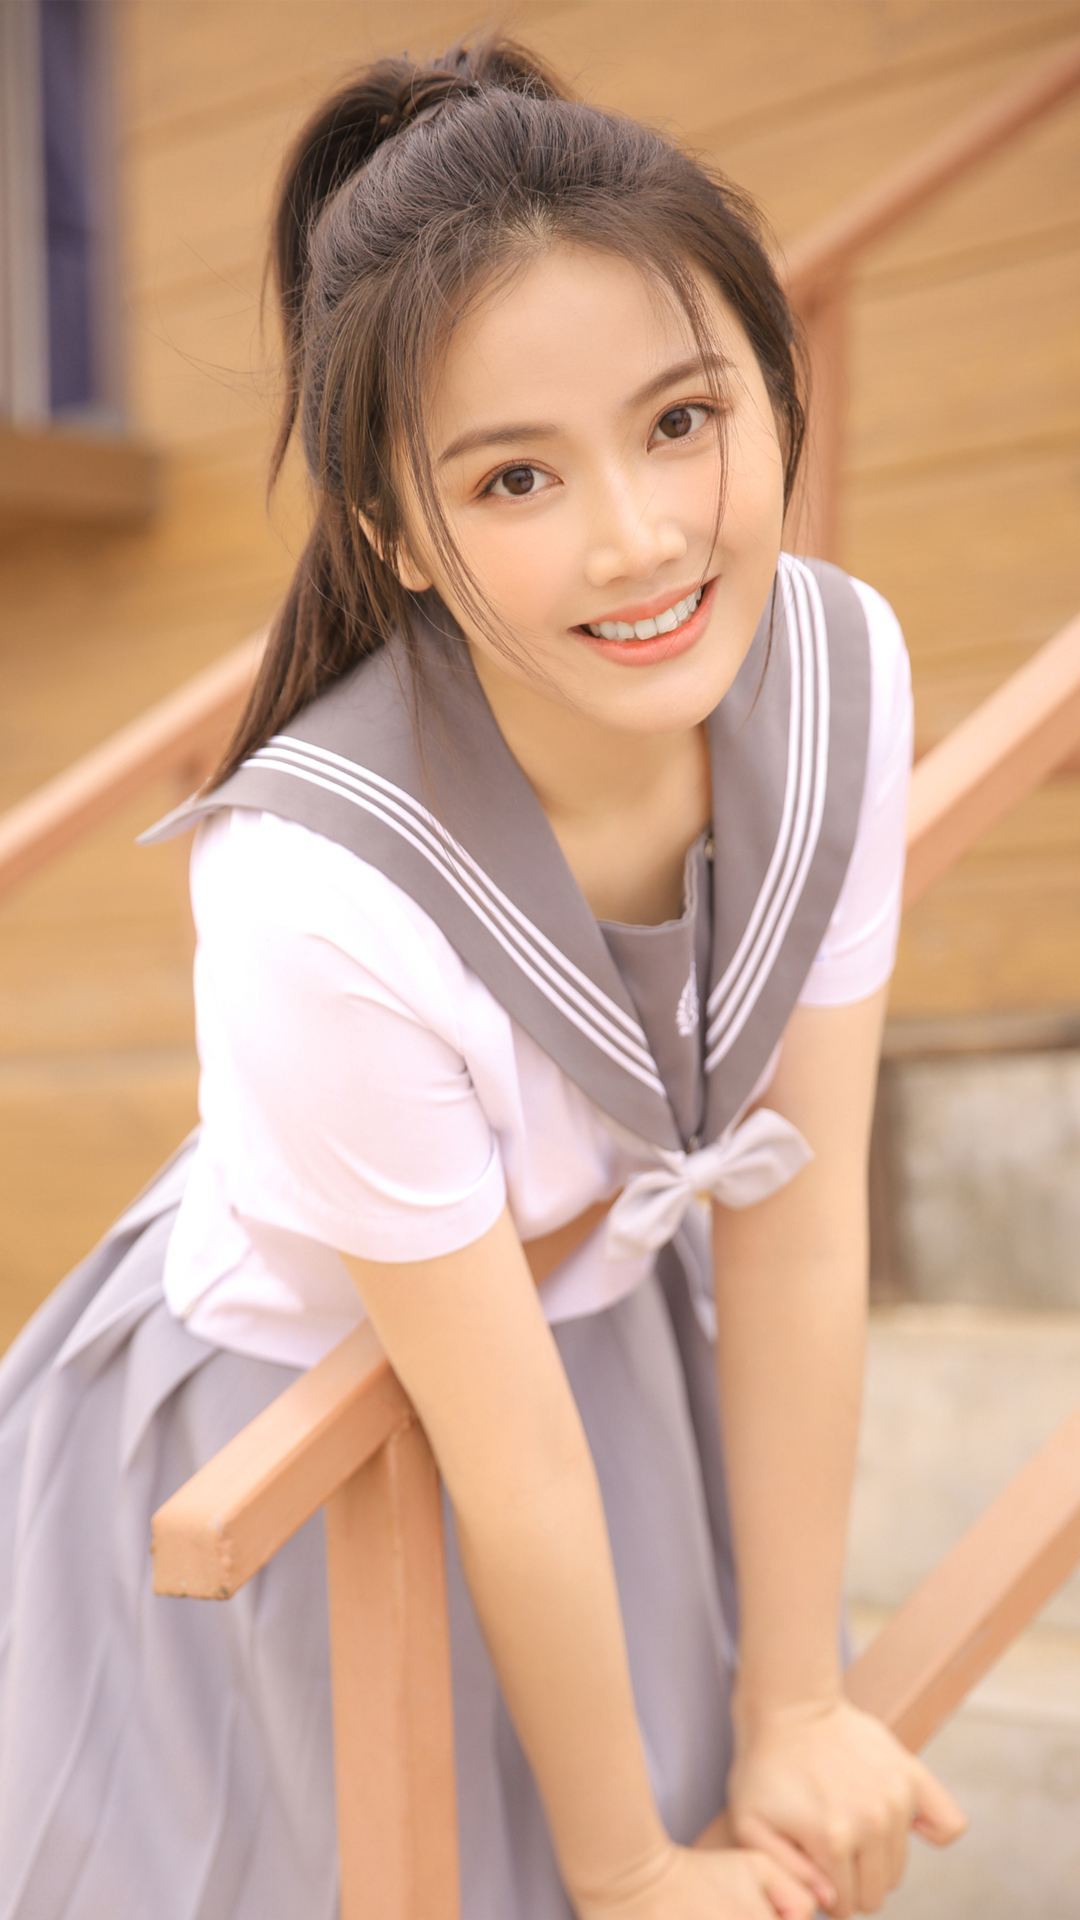person: (153, 96, 1014, 1861)
